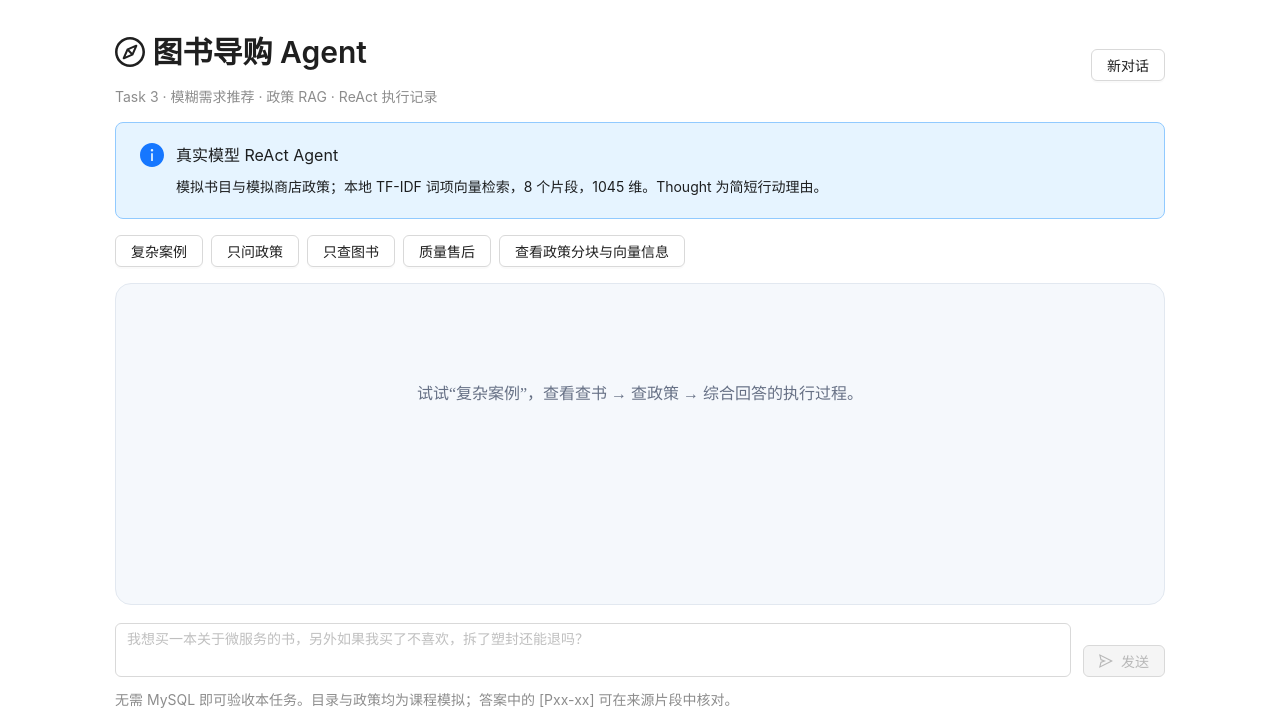
Test: 请求失败时展示错误，允许用户重新输入
The image size is (1280, 720).
Expected: the text "真实模型 ReAct Agent" is shown, [176,145,338,165]
Type "推荐微服务书" into the text box named "导购问题" at (593, 650), box [115,623,1071,677]
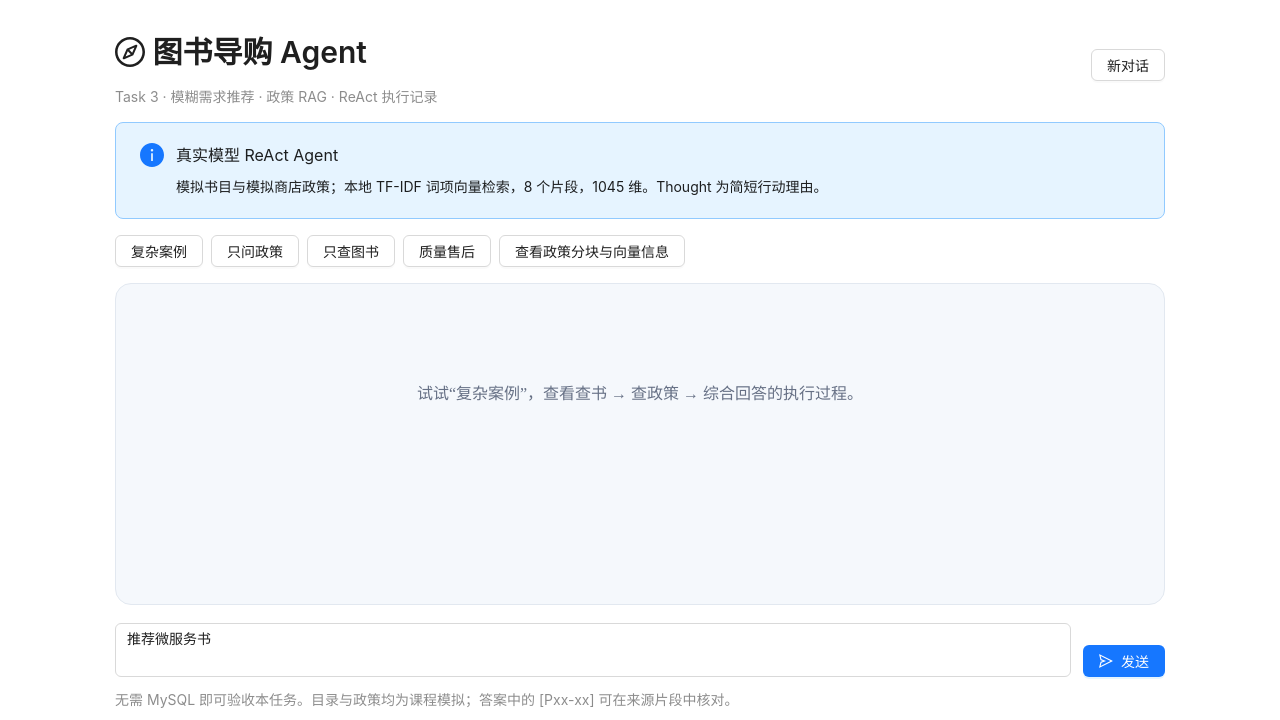
Click the button with aria-label "发送导购问题" at (1124, 661), box [1083,645,1165,677]
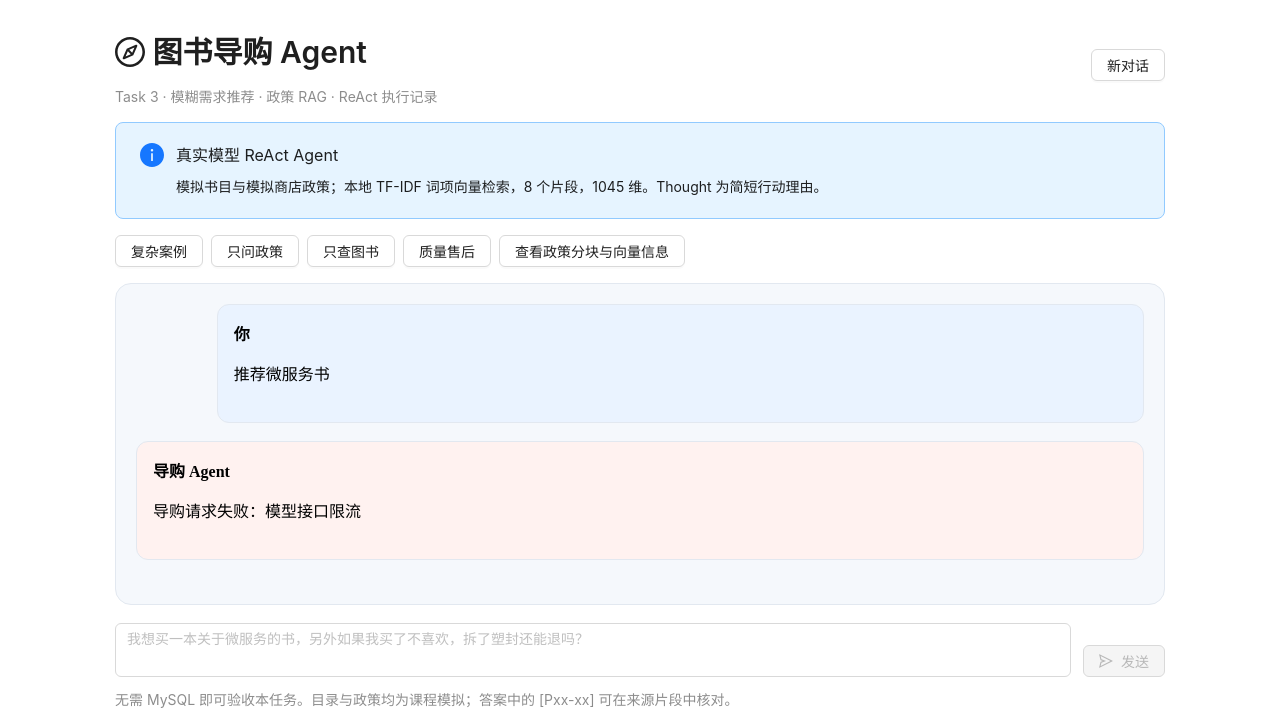
Expected: the text box named "导购问题" is enabled, [115,623,1071,677]
Result: the text "导购请求失败：模型接口限流" is shown at [153,503,361,520]
